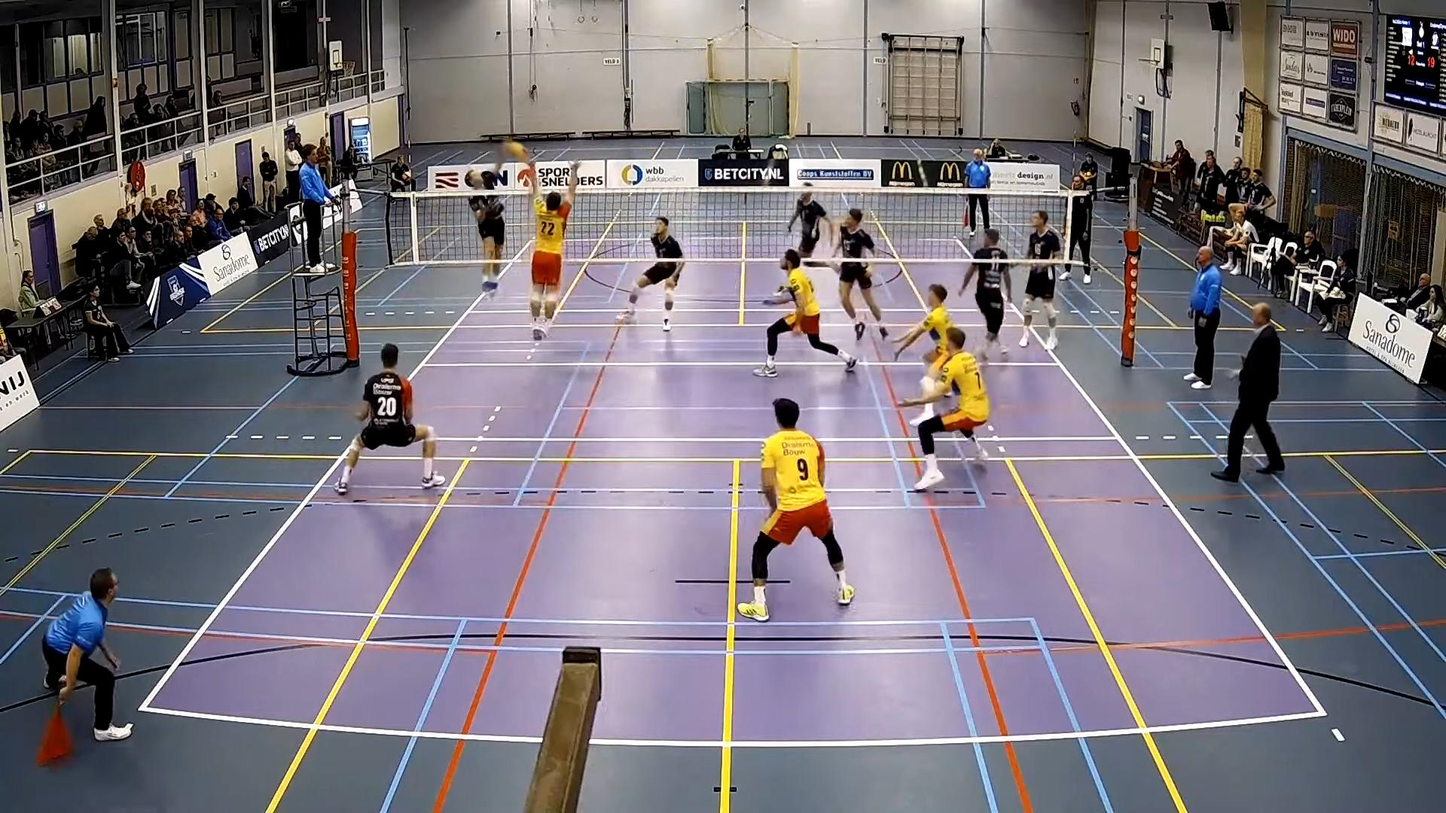Attack: (458, 128, 520, 302)
Block: (522, 163, 585, 342)
Player: (737, 398, 855, 621), (335, 343, 445, 494), (898, 327, 989, 490), (754, 248, 856, 376), (619, 216, 684, 331), (835, 208, 887, 340), (959, 228, 1011, 360), (894, 284, 953, 395), (787, 188, 832, 257), (1027, 211, 1061, 260)
ball: (500, 142, 529, 159)
